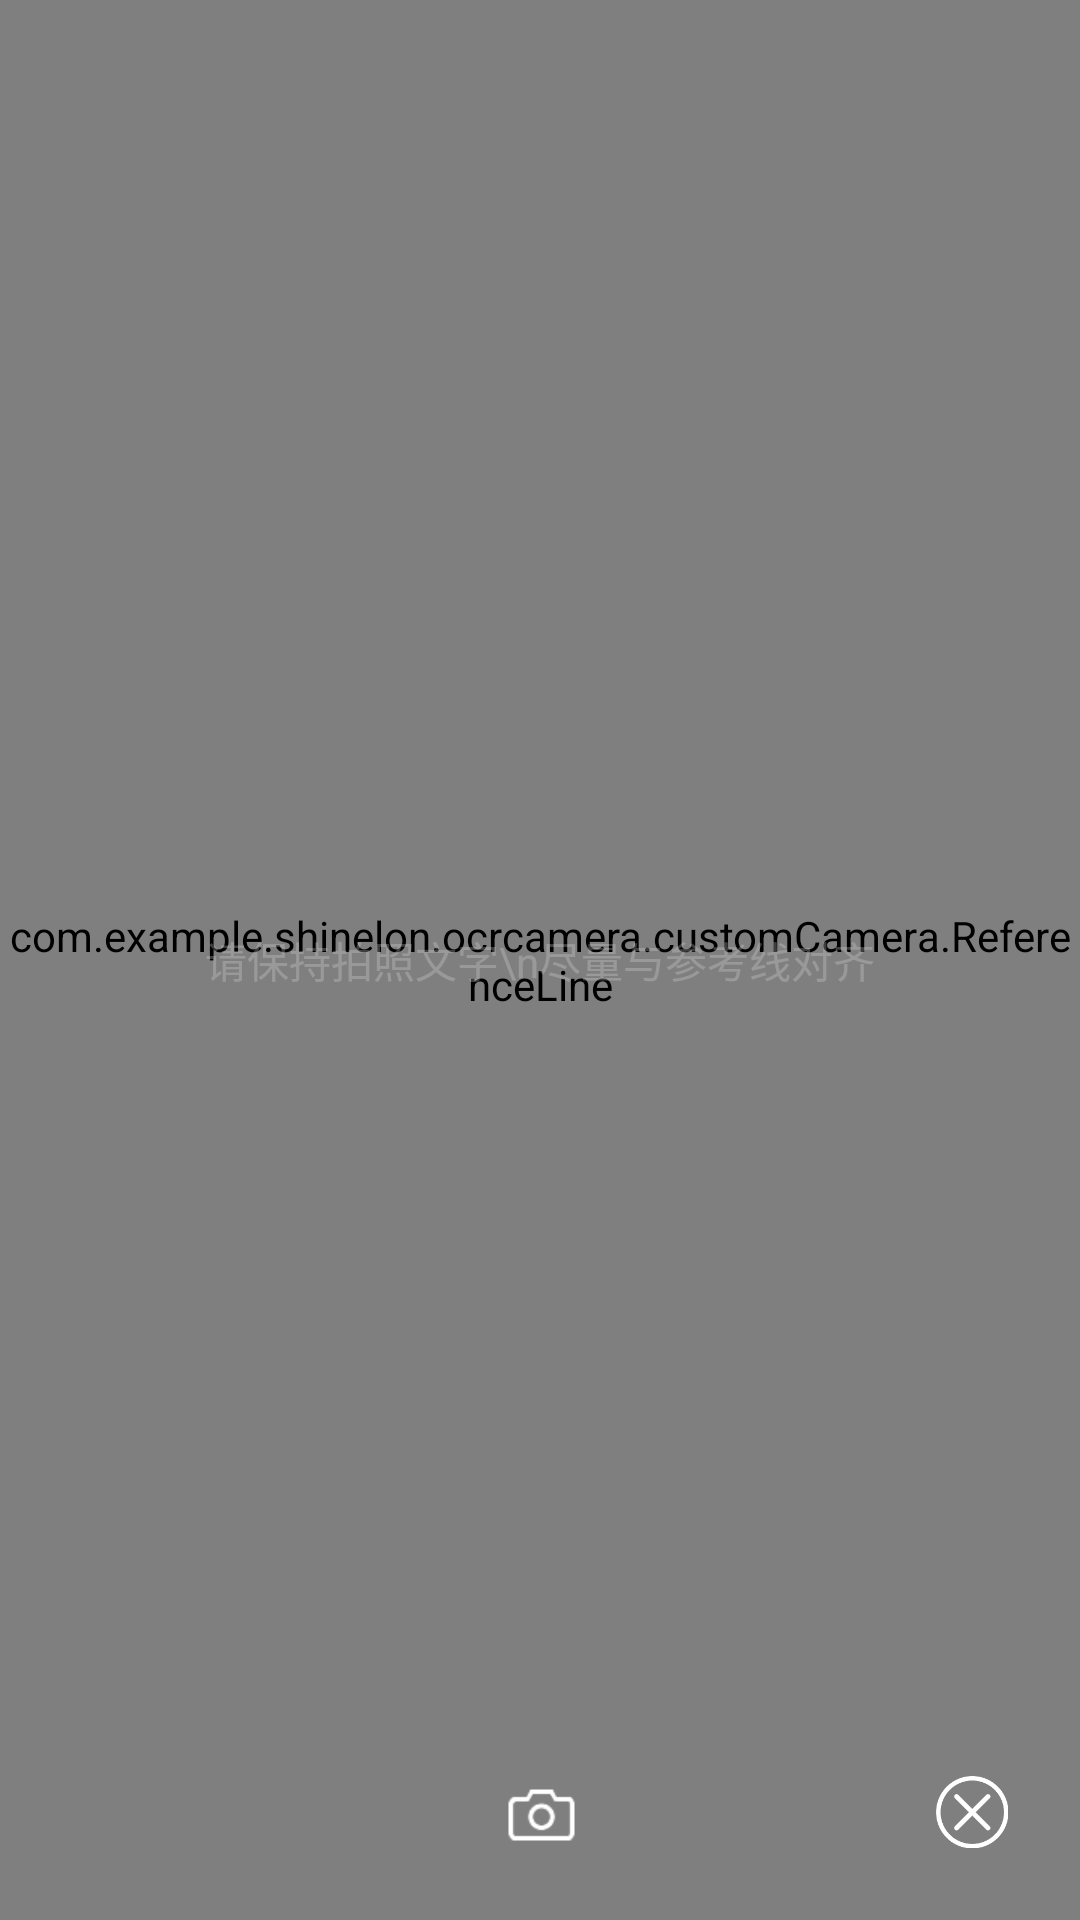

Locate icon controls on the screen. Image size 1080w x 1920h, boxes as (x1, y1, x2, y2).
close: (936, 1776, 1008, 1848)
